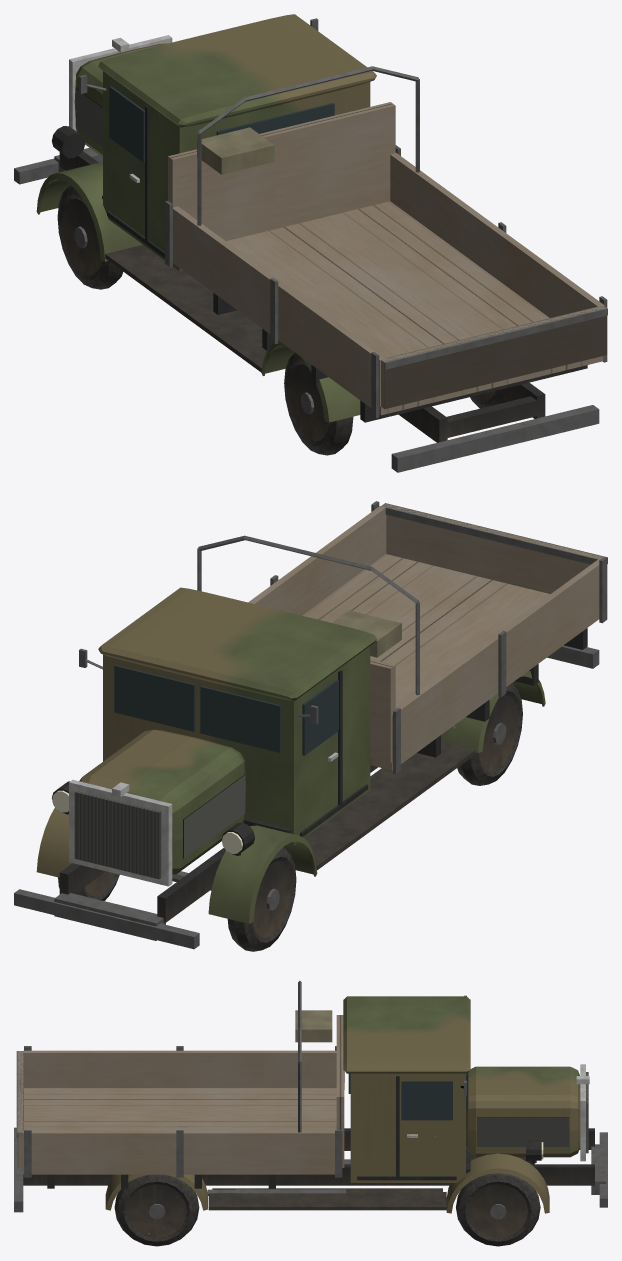
The model's file is ammo_cart.glb.
The picture shows the model from 3 angles, top to bottom: view 1: azimuth 30°, elevation 25°; view 2: azimuth 150°, elevation 25°; view 3: azimuth 270°, elevation 25°; orthographic projection. The views are drawn at different scales.
Parts seen in each view (by area): view 1: bed, cab, tailgate, fenders, chassis, wheel_RL, wheel_FL; view 2: cab, bed, fenders, tailgate, chassis, wheel_FL, wheel_RL, wheel_FR; view 3: bed, cab, fenders, chassis, wheel_FR, wheel_RR, tailgate.
Part boxes in pixels (bbox=[...]): bed: bbox=[165, 66, 607, 422]; cab: bbox=[52, 14, 376, 271]; tailgate: bbox=[381, 305, 607, 409]; fenders: bbox=[36, 163, 360, 422]; chassis: bbox=[14, 148, 599, 472]; wheel_RL: bbox=[284, 353, 353, 455]; wheel_FL: bbox=[57, 185, 122, 289]; cab: bbox=[51, 587, 376, 886]; bed: bbox=[197, 501, 607, 774]; fenders: bbox=[36, 671, 545, 923]; tailgate: bbox=[381, 503, 607, 593]; chassis: bbox=[14, 645, 599, 949]; wheel_FL: bbox=[227, 847, 296, 951]; wheel_RL: bbox=[457, 683, 522, 785]; wheel_FR: bbox=[58, 871, 119, 900]; bed: bbox=[23, 981, 344, 1188]; cab: bbox=[343, 995, 589, 1182]; fenders: bbox=[105, 1150, 549, 1213]; chassis: bbox=[14, 1127, 607, 1212]; wheel_FR: bbox=[456, 1173, 540, 1246]; wheel_RR: bbox=[114, 1174, 199, 1246]; tailgate: bbox=[16, 1051, 23, 1167].
Size of the model in its own units: 2.24 by 2.52 by 6.44.
Materials: 1 (1 with a texture image).
